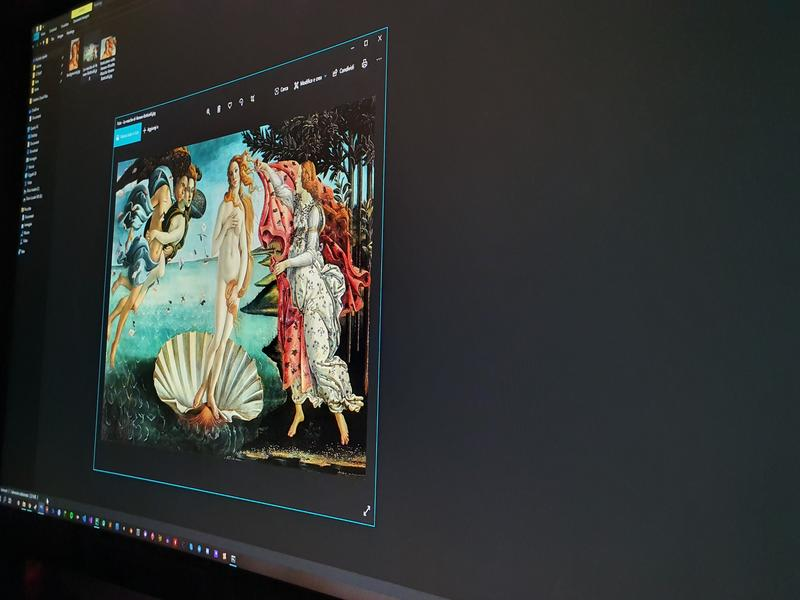Venere: (102, 98, 371, 478)
